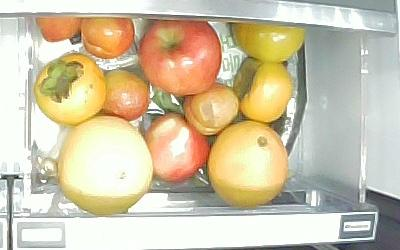apple: (138, 19, 222, 96), (141, 112, 212, 185)
grapefruit: (58, 115, 153, 216), (206, 120, 289, 209)
persimmon: (33, 52, 107, 126), (232, 57, 293, 123), (230, 22, 305, 63)
prune: (182, 81, 240, 136), (99, 68, 150, 122), (80, 16, 135, 60), (35, 14, 84, 42)
